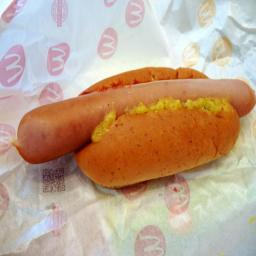hotdog: (12, 63, 256, 206)
